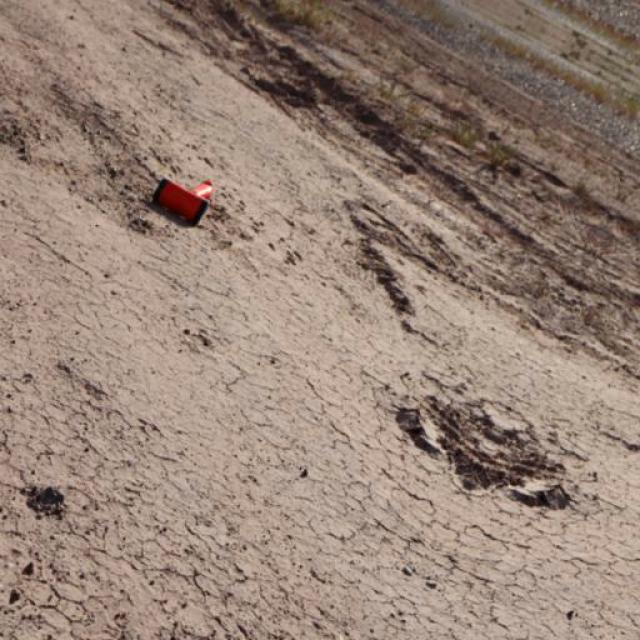mallet: (150, 176, 214, 225)
